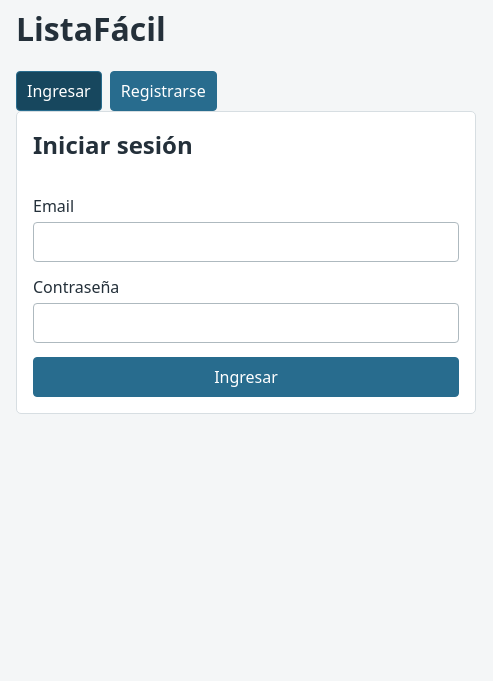
confirmación de contraseña en el registro › permite corregir la confirmación y envía sólo name, email y password
The width and height of the screenshot is (493, 681).
Step 1. Click the button "Registrarse" → (163, 91), box [110,71,217,111]
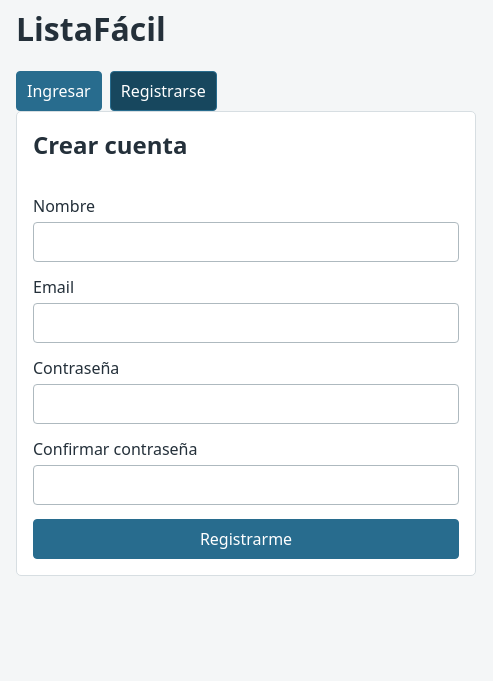
Step 2. Type "Test" into the field labelled "Nombre" → (246, 242), box [33,222,459,262]
Step 3. Type "test@example.invalid" into the field labelled "Email" → (246, 323), box [33,303,459,343]
Step 4. Type "Password123" into the password field labelled "Contraseña" → (246, 404), box [33,384,459,424]
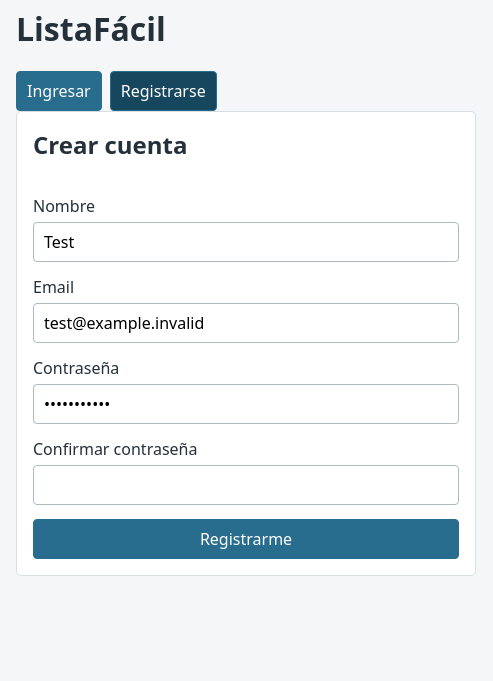
Step 5. Type "Different123" into the password field labelled "Confirmar contraseña" → (246, 485), box [33,465,459,505]
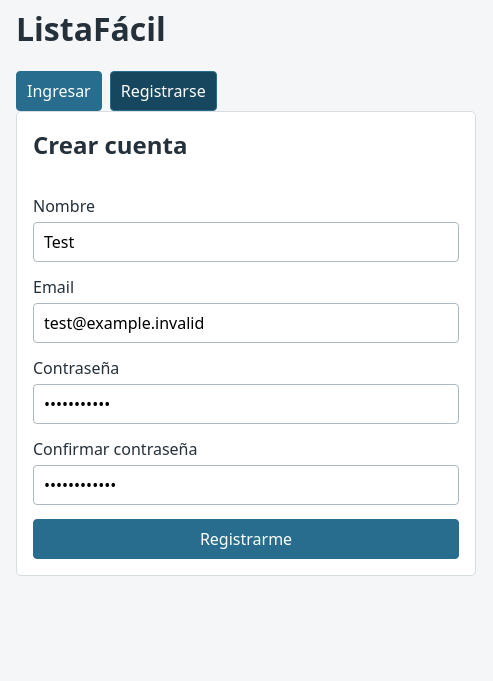
Step 6. Click the button "Registrarme" → (246, 539), box [33,519,459,559]
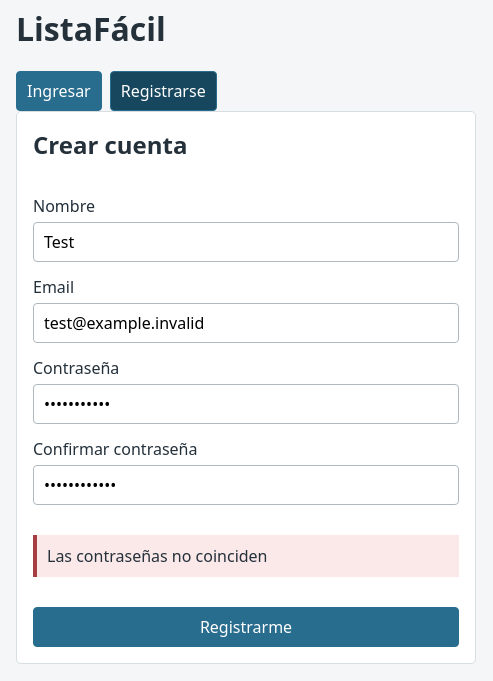
Step 7. Type "Password123" into the password field labelled "Confirmar contraseña" → (246, 485), box [33,465,459,505]
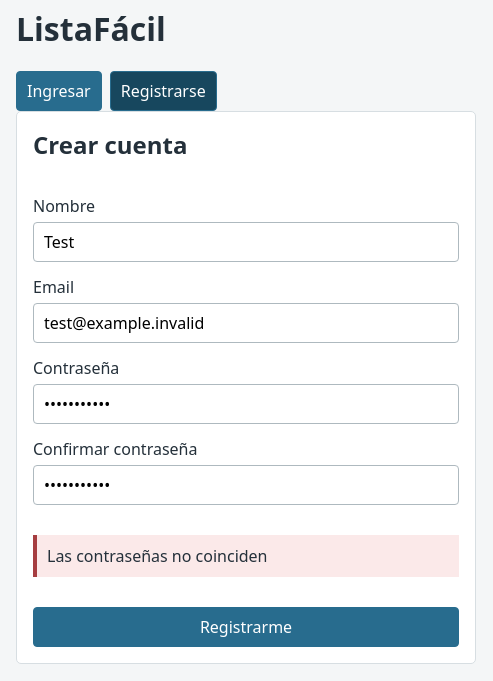
Step 8. Click the button "Registrarme" → (246, 627), box [33,607,459,647]
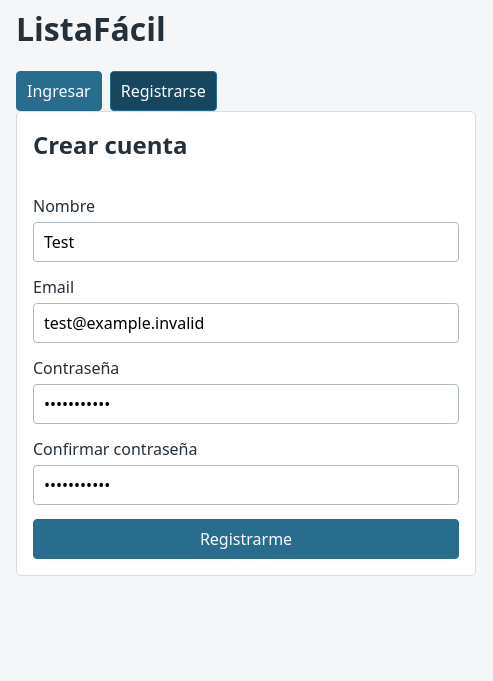
Expected: the text "Las contraseñas no coinciden" is gone
